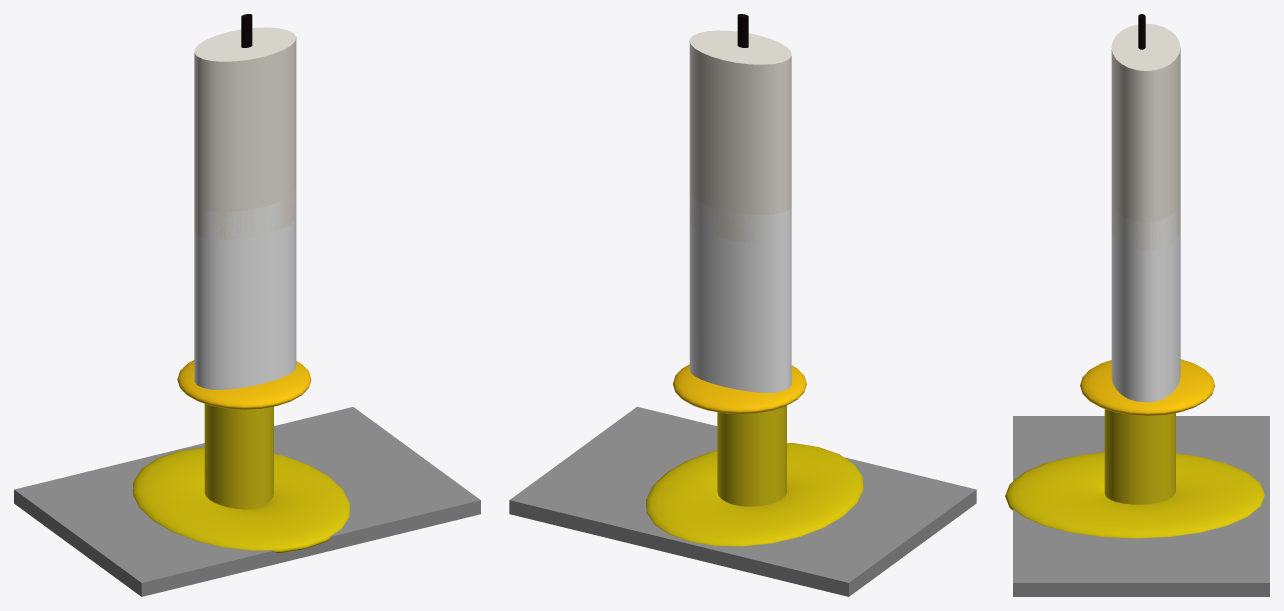
File: candle.obj
3 renders of one model, left to right at view 1: azimuth 30°, elevation 25°; view 2: azimuth 150°, elevation 25°; view 3: azimuth 270°, elevation 25°, orthographic.
Visible parts, largest first — view 1: Box, Cylinder2, Cylinder1, Torus, Cylinder, Sphere; view 2: Box, Cylinder2, Cylinder1, Torus, Cylinder, Sphere; view 3: Box, Torus, Cylinder2, Cylinder1, Cylinder, Sphere.
Boxes of the visible parts, x1,y1,x2,y2 form: Box: (14,407,480,596); Cylinder2: (194,27,296,240); Cylinder1: (194,187,296,389); Torus: (133,447,350,552); Cylinder: (204,404,273,509); Sphere: (177,360,311,409); Box: (509,406,976,596); Cylinder2: (689,30,791,242); Cylinder1: (689,191,791,392); Torus: (646,443,863,546); Cylinder: (717,405,786,506); Sphere: (673,364,806,414); Box: (1013,416,1269,596); Torus: (1005,452,1264,538); Cylinder2: (1111,23,1180,250); Cylinder1: (1111,208,1180,402); Cylinder: (1104,409,1175,504); Sphere: (1080,359,1215,415).
Size of the model in its own units: 2.92 by 4.05 by 1.96.
